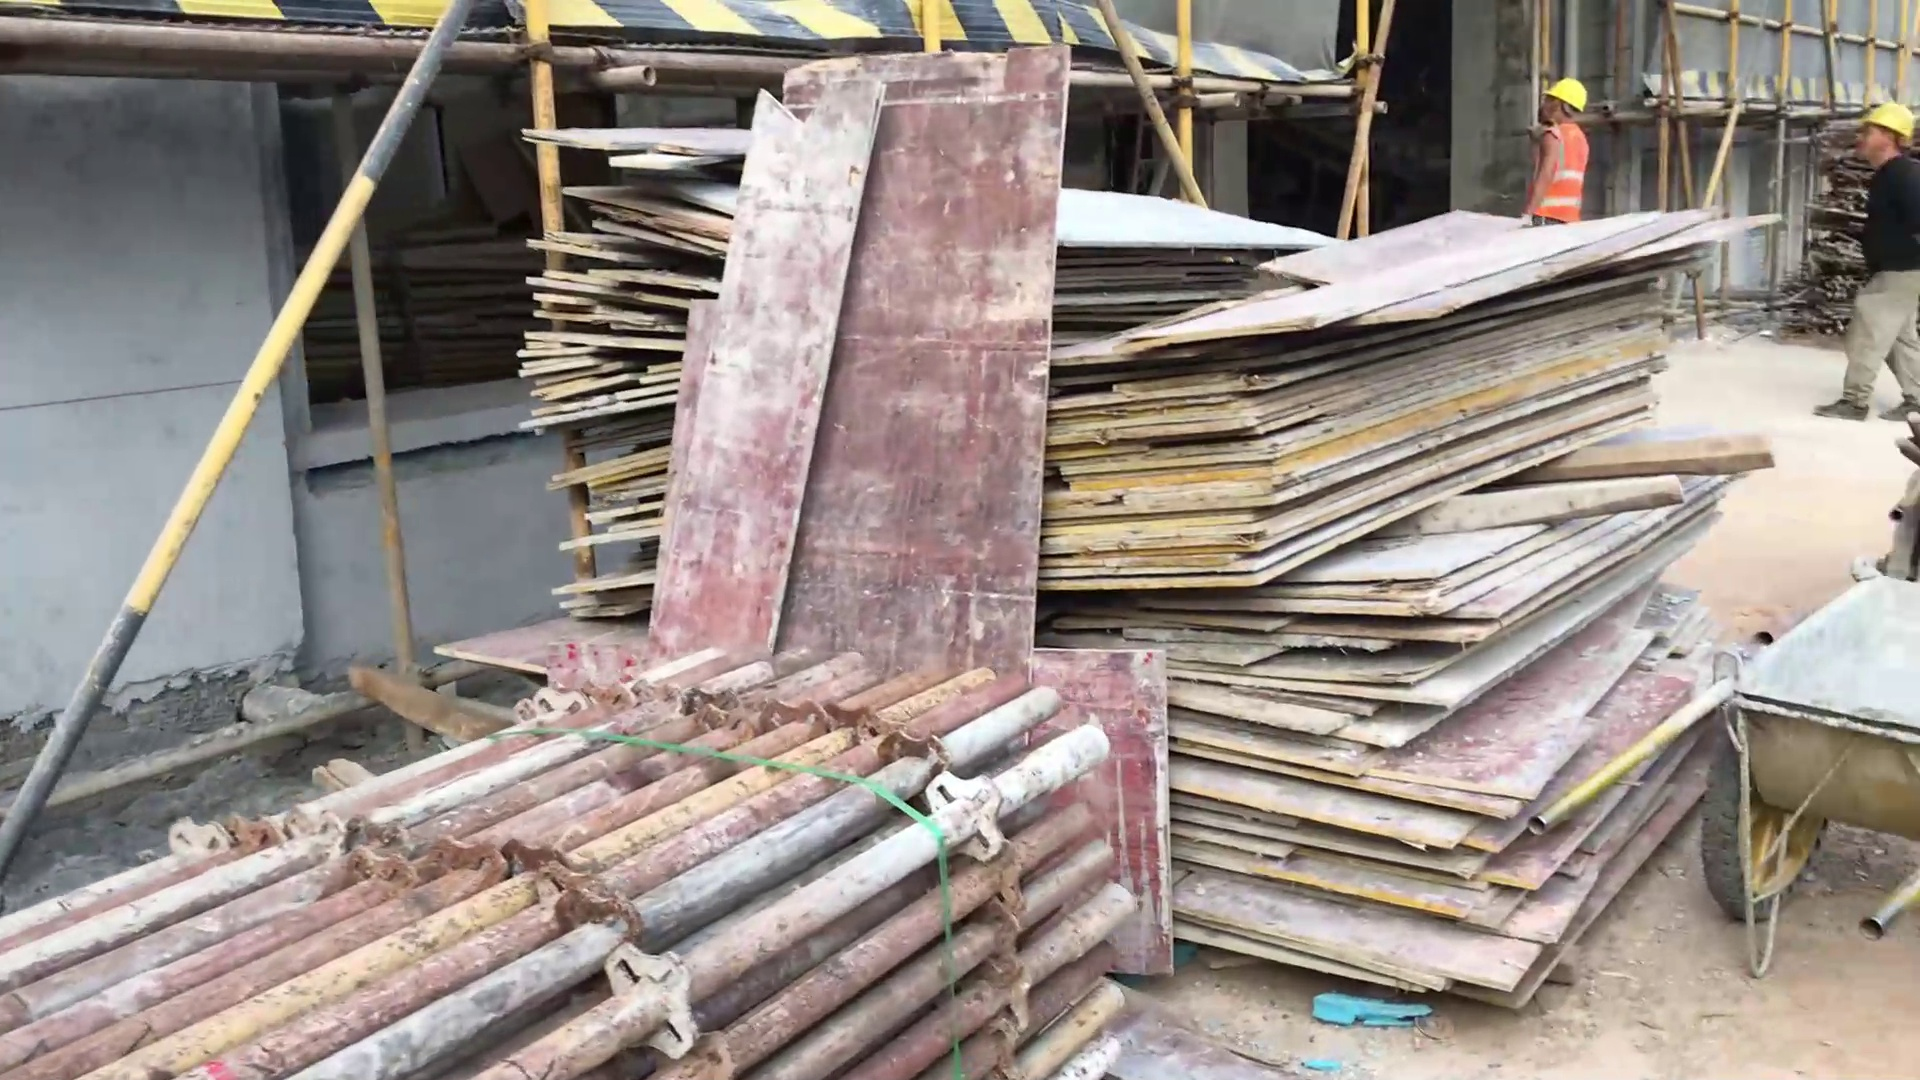board: (1043, 202, 1807, 995), (510, 105, 1310, 659)
handcart: (1512, 533, 1920, 981)
helmet: (1855, 103, 1920, 144), (1540, 72, 1590, 120)
person: (1801, 97, 1920, 420), (1520, 69, 1599, 238)
scaffold: (1, 657, 1124, 1078)
vest: (1526, 119, 1593, 225)
